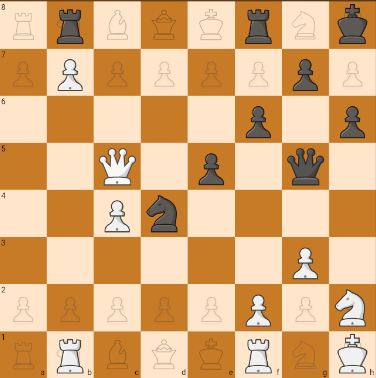bk: (330, 1, 376, 48)
bn: (144, 191, 181, 235)
bp: (189, 145, 234, 187), (336, 333, 375, 377), (331, 101, 373, 141), (240, 98, 279, 141), (289, 50, 325, 94)
bq: (287, 145, 326, 190)
br: (240, 4, 281, 47), (53, 5, 89, 46)
wn: (334, 285, 372, 330)
wp: (49, 54, 91, 94), (98, 193, 138, 234), (287, 241, 323, 280), (243, 288, 278, 327)
wq: (95, 147, 139, 186)
wr: (50, 335, 89, 376), (241, 336, 277, 374)
